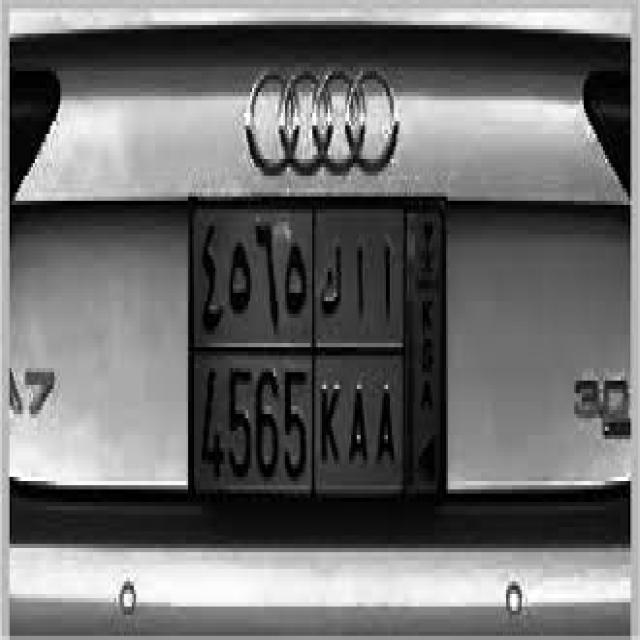license_plate: (186, 197, 448, 506)
